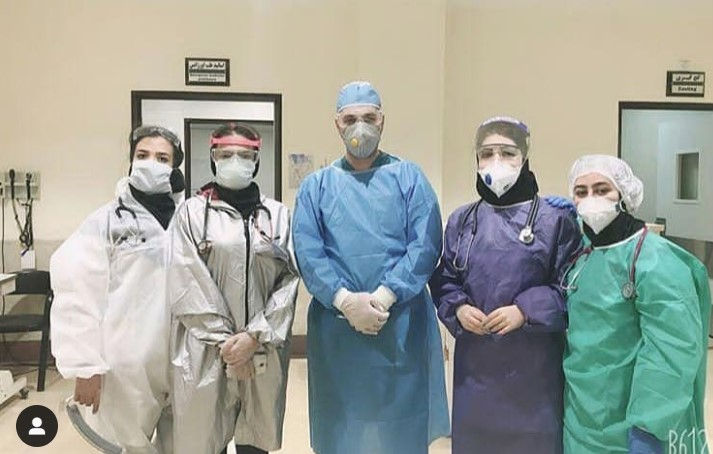face_with_mask: (567, 149, 628, 235), (473, 118, 534, 200), (333, 80, 388, 162), (127, 126, 183, 196), (207, 120, 262, 191)
